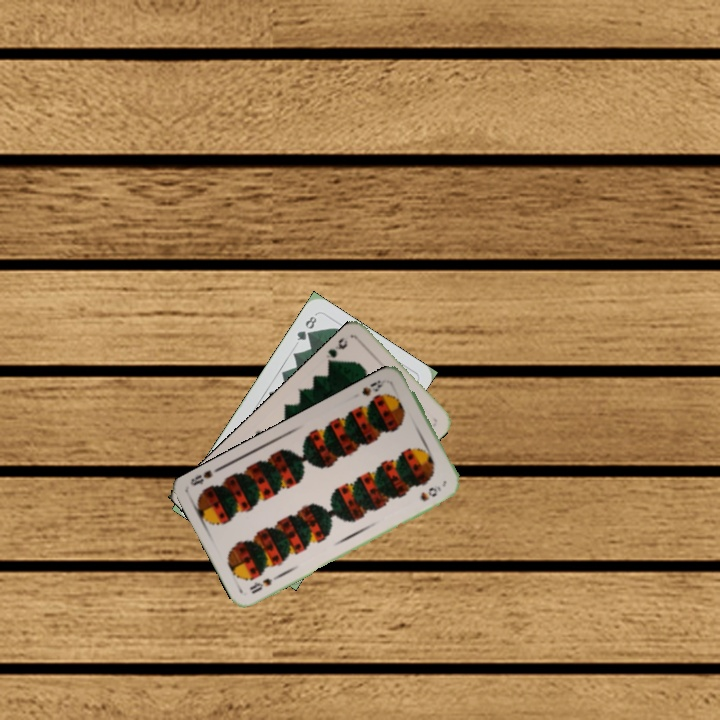G8: (293, 312, 319, 343)
G9: (322, 333, 350, 368)
S8: (246, 571, 282, 596), (358, 376, 389, 399)
